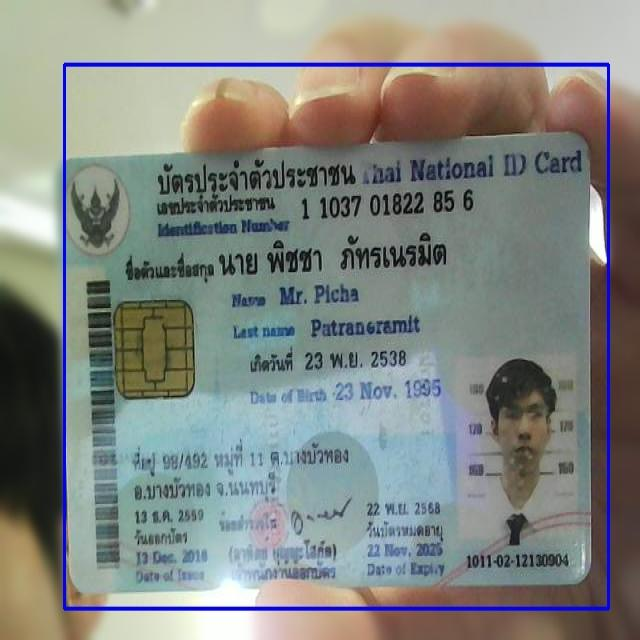Address_th: (128, 432, 362, 510)
Date_of_Birth: (333, 375, 445, 409)
Date_of_Expiry: (362, 541, 450, 563)
Date_of_Issue: (133, 547, 219, 568)
First_Name: (277, 280, 362, 310)
ID_Number: (294, 188, 479, 222)
Image: (459, 351, 582, 549)
Last_Name: (310, 313, 426, 343)
Thai_Name: (214, 228, 454, 282)
